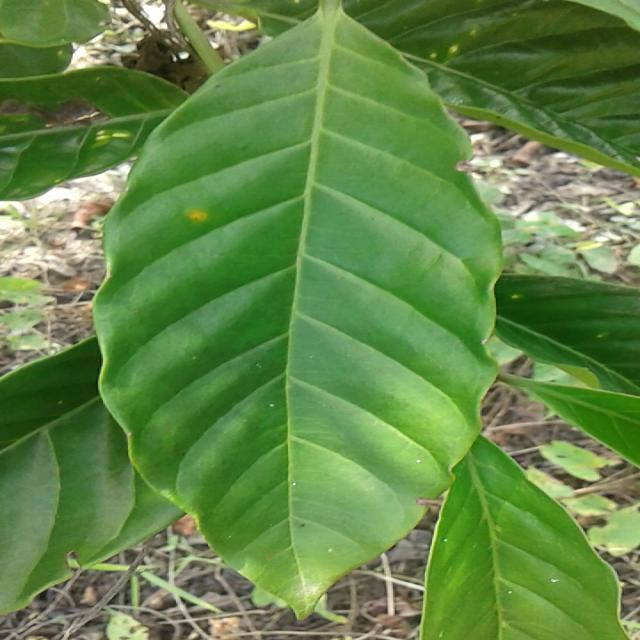Enfermedad-Roya: (91, 0, 505, 610)
